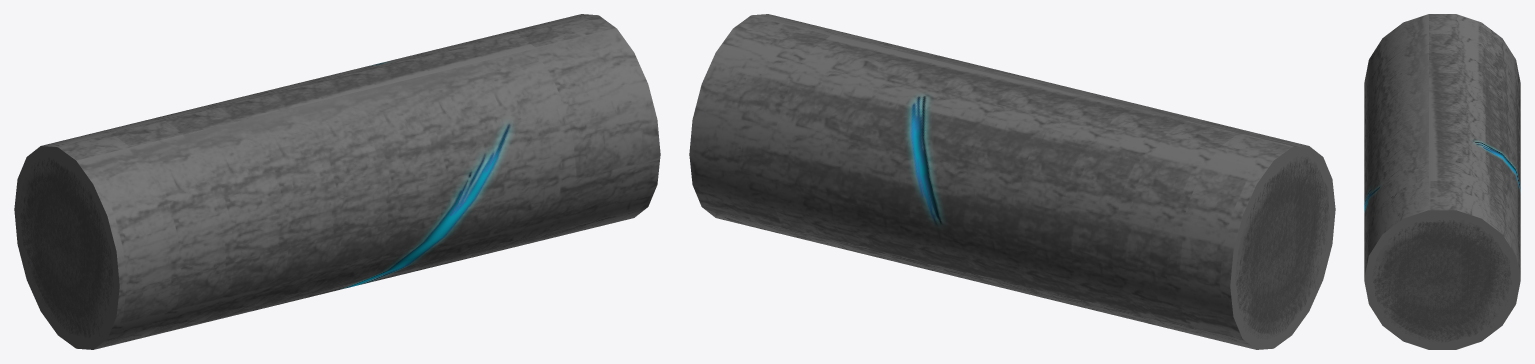
Rendered from Log_B.fbx.
3 renders of one model, left to right at view 1: azimuth 30°, elevation 25°; view 2: azimuth 150°, elevation 25°; view 3: azimuth 270°, elevation 25°, orthographic. The views are drawn at different scales.
Parts seen in each view (by area): view 1: Cylinder001; view 2: Cylinder001; view 3: Cylinder001.
Part boxes in pixels (<box>): Cylinder001: <box>14,14,660,349</box>; Cylinder001: <box>689,14,1335,349</box>; Cylinder001: <box>1364,14,1520,349</box>.
Size of the model in its own units: 93.83 by 31.19 by 31.67.
1 material, 1 textured.
